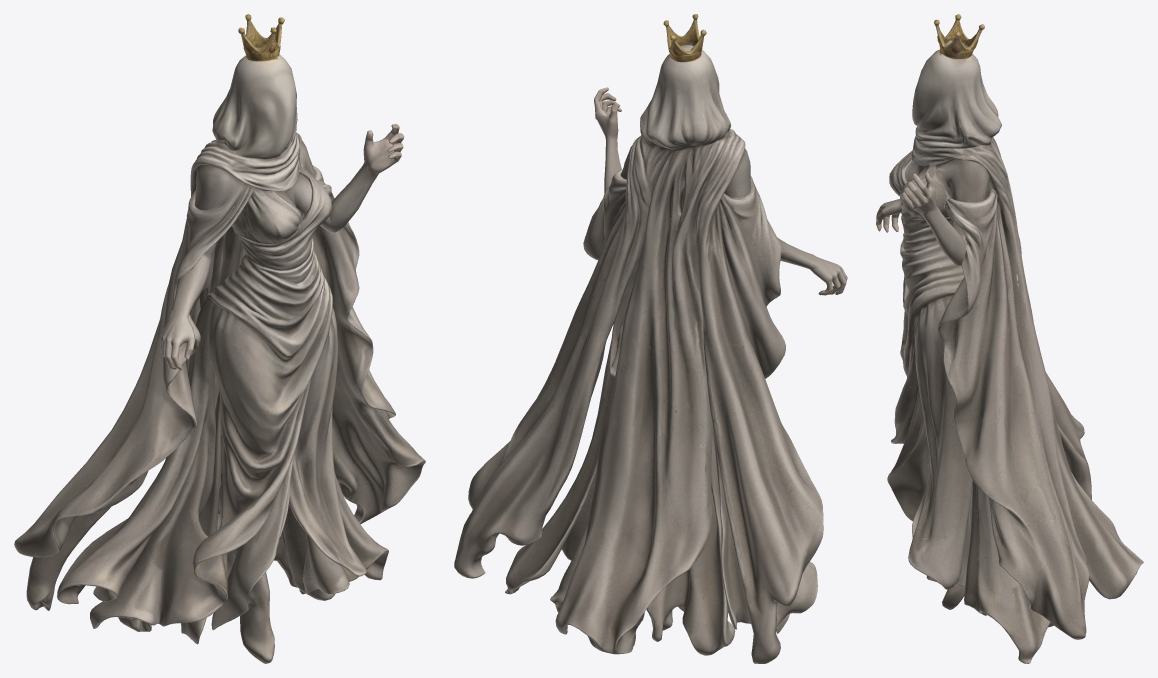
Rendered from ivorae__the_faceless_queen.glb.
3 views of the same model, side by side, from view 1: azimuth 30°, elevation 25°; view 2: azimuth 150°, elevation 25°; view 3: azimuth 270°, elevation 25° (orthographic). The views are drawn at different scales.
Parts seen in each view (by area): view 1: ivorae__the_faceless_queen; view 2: ivorae__the_faceless_queen; view 3: ivorae__the_faceless_queen.
Part boxes in pixels (bbox=[...]): ivorae__the_faceless_queen: bbox=[14, 14, 425, 663]; ivorae__the_faceless_queen: bbox=[454, 14, 847, 663]; ivorae__the_faceless_queen: bbox=[876, 14, 1143, 663].
Size of the model in its own units: 2.47 by 4 by 1.65.
Materials: 1 (1 with a texture image).
